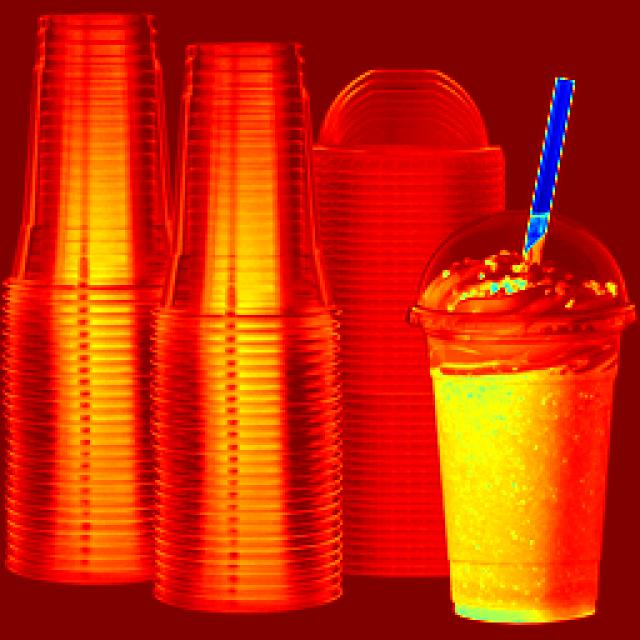Paper Cups: (169, 42, 327, 619), (14, 21, 154, 591), (423, 225, 619, 605)
